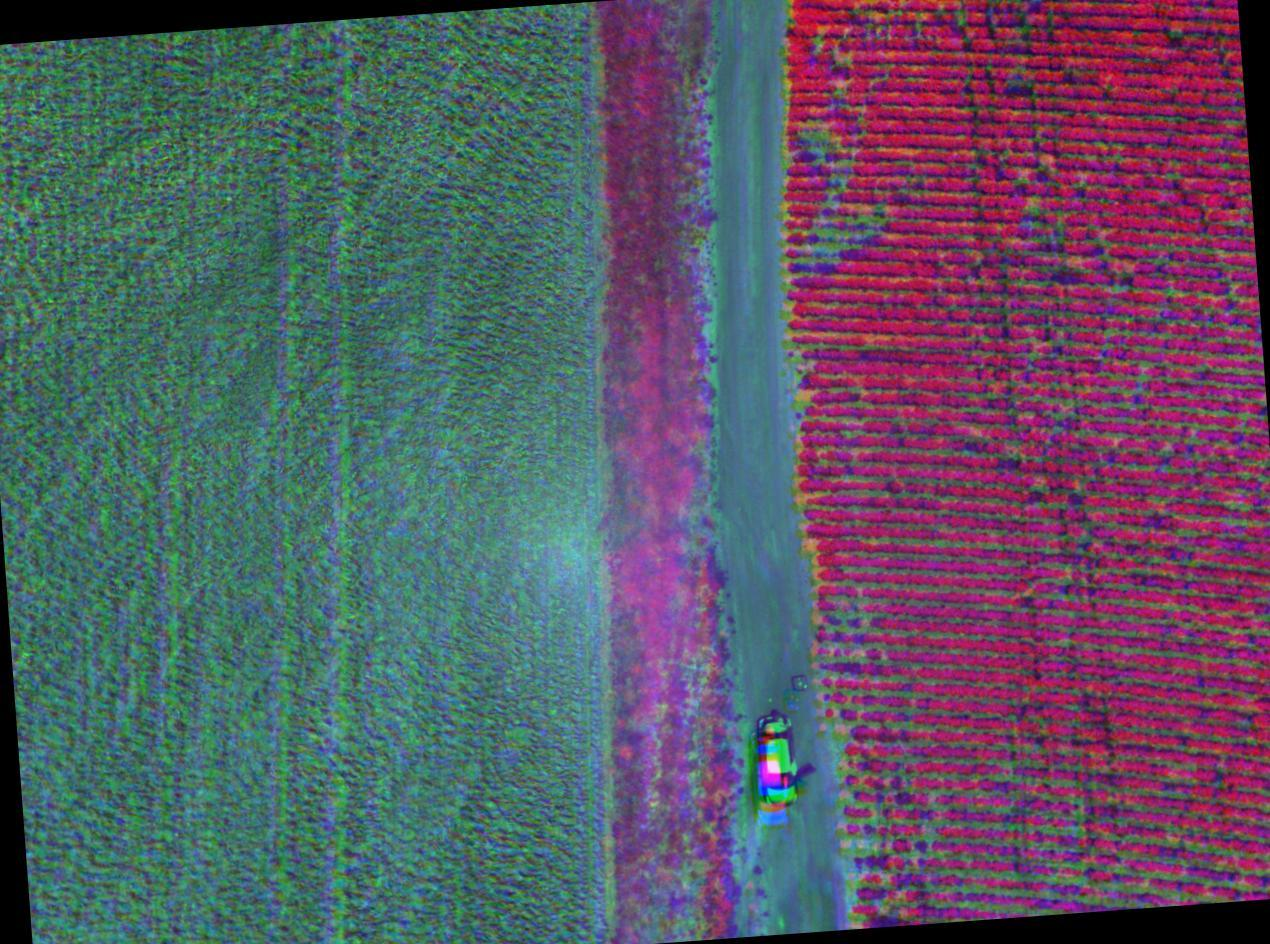dc: (816, 594, 913, 732), (791, 188, 897, 286), (845, 779, 911, 920), (1014, 165, 1105, 253), (1034, 781, 1097, 871), (791, 112, 873, 172)
